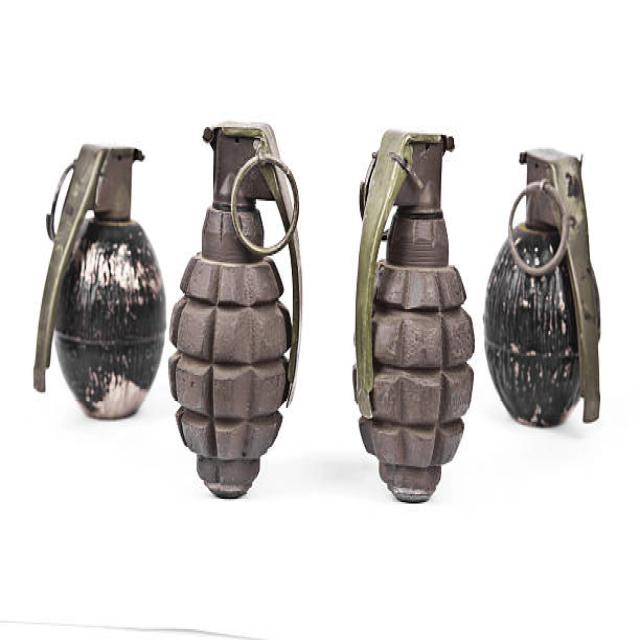grenade: (166, 115, 310, 506), (351, 128, 477, 509), (34, 138, 169, 429), (483, 143, 606, 433)
